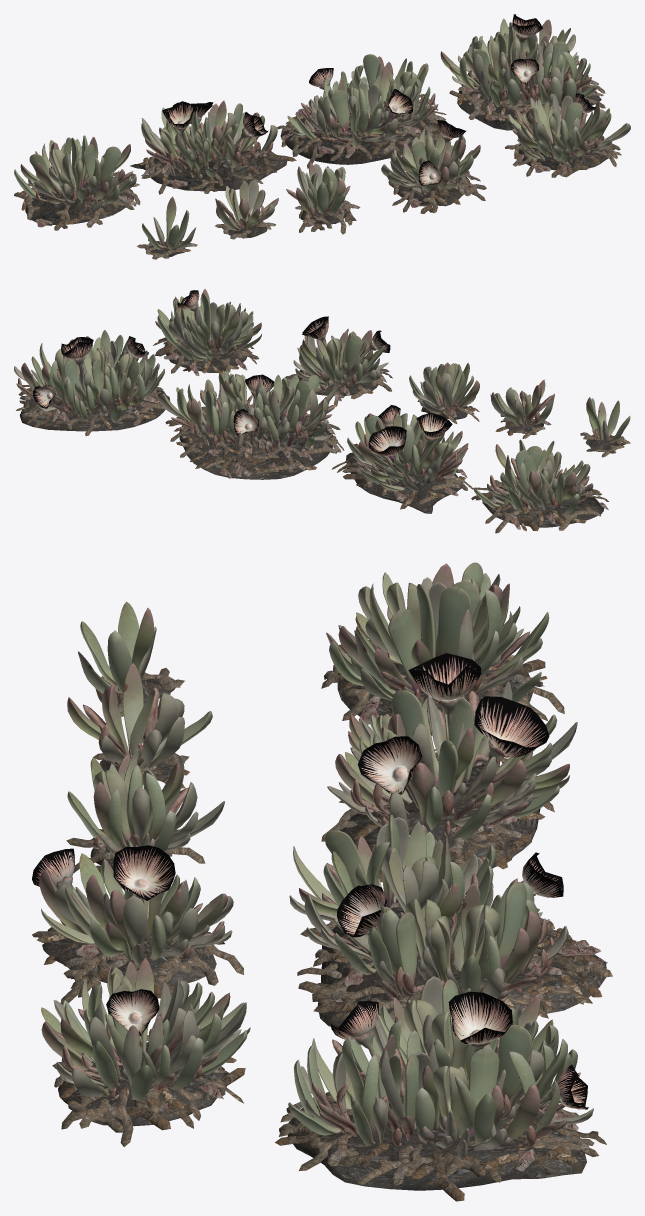
The model's file is cheiridopsis_succulent_2k.gltf.
The picture shows the model from 3 angles, top to bottom: view 1: azimuth 30°, elevation 25°; view 2: azimuth 150°, elevation 25°; view 3: azimuth 270°, elevation 25°; orthographic projection. The views are drawn at different scales.
Parts seen in each view (by area): view 1: cheiridopsis_succulent_h_LOD0, cheiridopsis_succulent_i_LOD0, cheiridopsis_succulent_g_LOD0, cheiridopsis_succulent_f_LOD0, cheiridopsis_succulent_e_LOD0, cheiridopsis_succulent_d_LOD0, cheiridopsis_succulent_c_LOD0, cheiridopsis_succulent_b_LOD0, cheiridopsis_succulent_a_LOD0; view 2: cheiridopsis_succulent_h_LOD0, cheiridopsis_succulent_i_LOD0, cheiridopsis_succulent_g_LOD0, cheiridopsis_succulent_f_LOD0, cheiridopsis_succulent_e_LOD0, cheiridopsis_succulent_d_LOD0, cheiridopsis_succulent_c_LOD0, cheiridopsis_succulent_b_LOD0, cheiridopsis_succulent_a_LOD0; view 3: cheiridopsis_succulent_i_LOD0, cheiridopsis_succulent_h_LOD0, cheiridopsis_succulent_g_LOD0, cheiridopsis_succulent_e_LOD0, cheiridopsis_succulent_d_LOD0, cheiridopsis_succulent_f_LOD0, cheiridopsis_succulent_c_LOD0, cheiridopsis_succulent_b_LOD0, cheiridopsis_succulent_a_LOD0.
Part boxes in pixels (x1,y1,x2,y2): cheiridopsis_succulent_h_LOD0: [277, 54, 446, 168]; cheiridopsis_succulent_i_LOD0: [440, 14, 605, 130]; cheiridopsis_succulent_g_LOD0: [130, 100, 296, 194]; cheiridopsis_succulent_f_LOD0: [14, 135, 140, 230]; cheiridopsis_succulent_e_LOD0: [505, 93, 630, 177]; cheiridopsis_succulent_d_LOD0: [381, 120, 486, 213]; cheiridopsis_succulent_c_LOD0: [286, 162, 360, 234]; cheiridopsis_succulent_b_LOD0: [215, 180, 278, 239]; cheiridopsis_succulent_a_LOD0: [137, 196, 197, 259]; cheiridopsis_succulent_h_LOD0: [159, 370, 344, 479]; cheiridopsis_succulent_i_LOD0: [14, 330, 170, 435]; cheiridopsis_succulent_g_LOD0: [332, 405, 473, 513]; cheiridopsis_succulent_f_LOD0: [471, 439, 608, 533]; cheiridopsis_succulent_e_LOD0: [153, 289, 261, 376]; cheiridopsis_succulent_d_LOD0: [285, 316, 392, 406]; cheiridopsis_succulent_c_LOD0: [409, 362, 479, 423]; cheiridopsis_succulent_b_LOD0: [490, 379, 554, 438]; cheiridopsis_succulent_a_LOD0: [580, 397, 630, 457]; cheiridopsis_succulent_i_LOD0: [275, 976, 606, 1201]; cheiridopsis_succulent_h_LOD0: [289, 814, 612, 1027]; cheiridopsis_succulent_g_LOD0: [321, 653, 577, 894]; cheiridopsis_succulent_e_LOD0: [41, 957, 250, 1146]; cheiridopsis_succulent_d_LOD0: [32, 840, 243, 1004]; cheiridopsis_succulent_f_LOD0: [321, 562, 564, 735]; cheiridopsis_succulent_c_LOD0: [66, 749, 224, 882]; cheiridopsis_succulent_b_LOD0: [67, 663, 212, 788]; cheiridopsis_succulent_a_LOD0: [78, 601, 184, 716].
Bounding box in the file's own units: 2.16 × 0.2708 × 0.9586.
2 materials, 2 textured.
